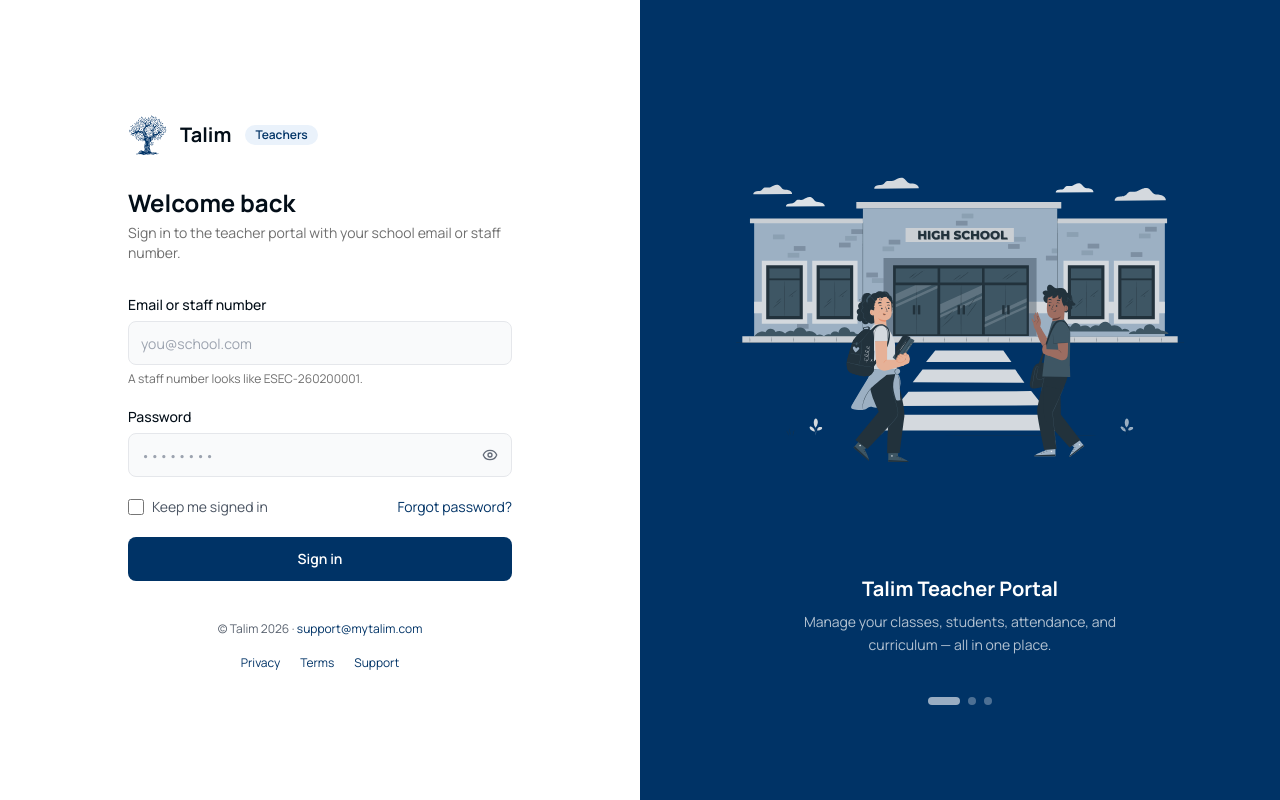
it: a refused sign-in › shows any other failure as the server said it
Expected: the button "Sign in" is shown, [128,537,512,581]
Type "tolu@school.test" into the field labelled "Email or staff number" at (320, 343), box [128,321,512,365]
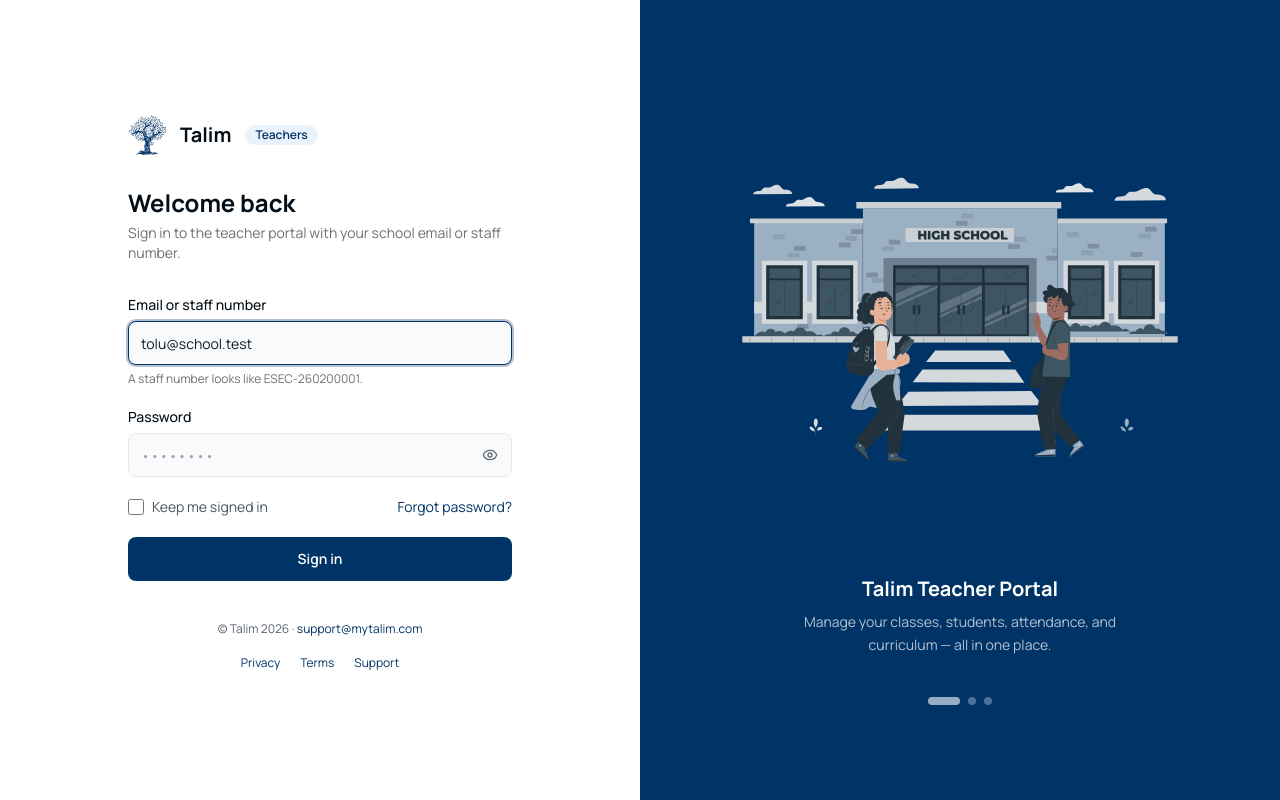
Type "Wrong#Pass1" into the password field labelled "Password" at (320, 455), box [128,433,512,477]
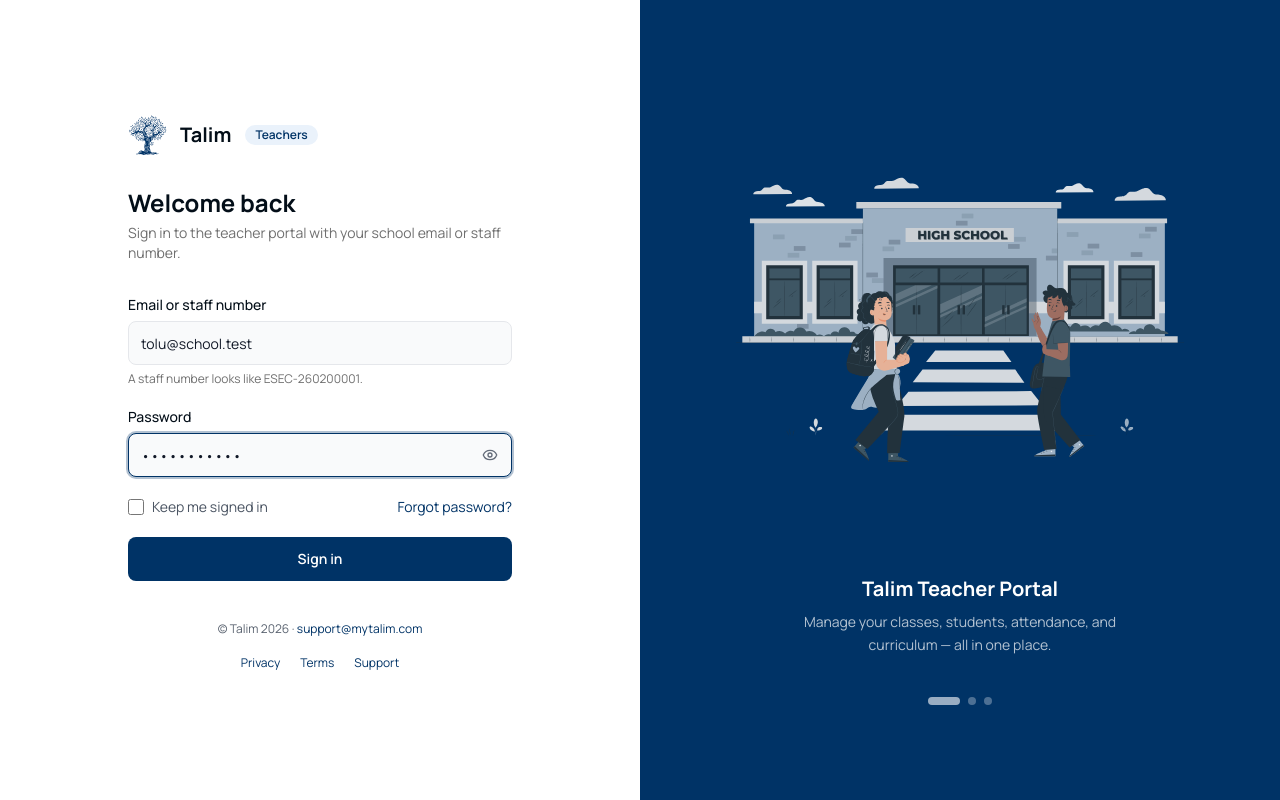
Click the button "Sign in" at (320, 559), box [128,537,512,581]
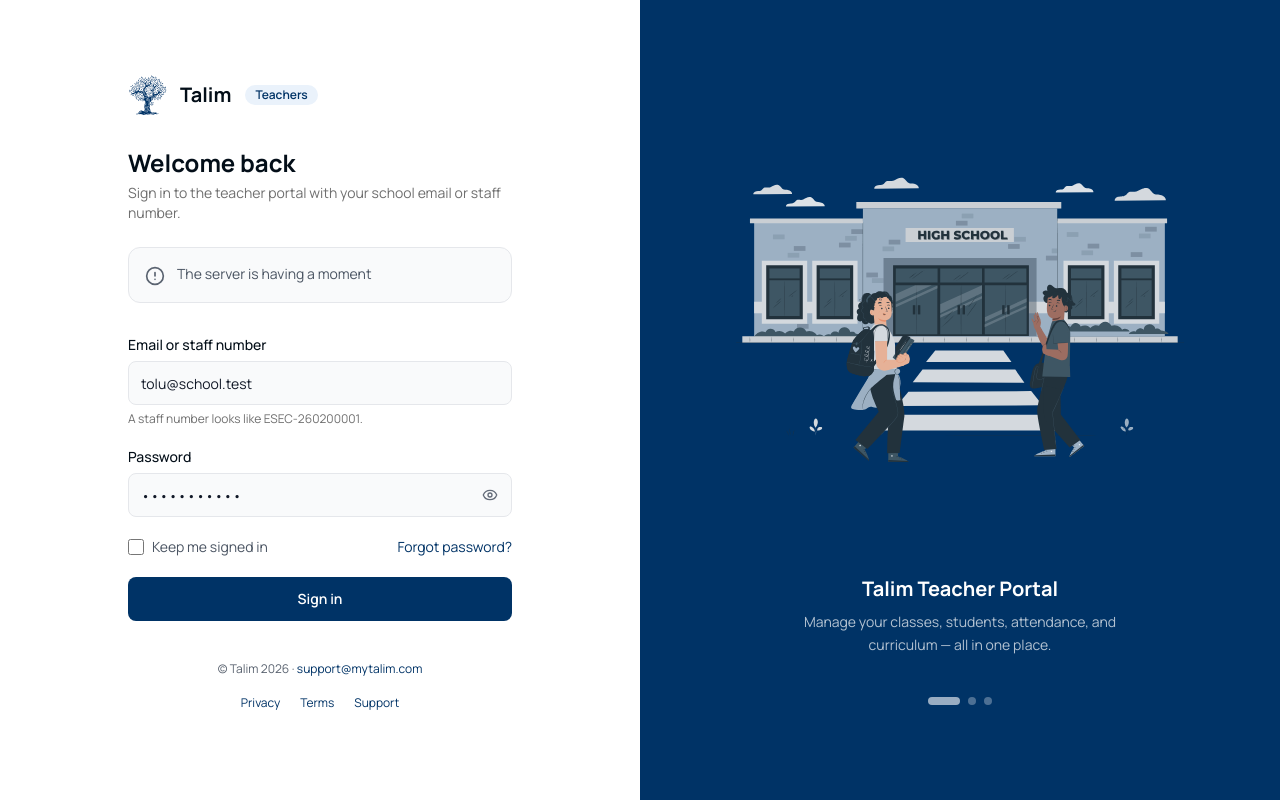
Expected: the message reads "The server is having a moment", [177,264,372,283]
